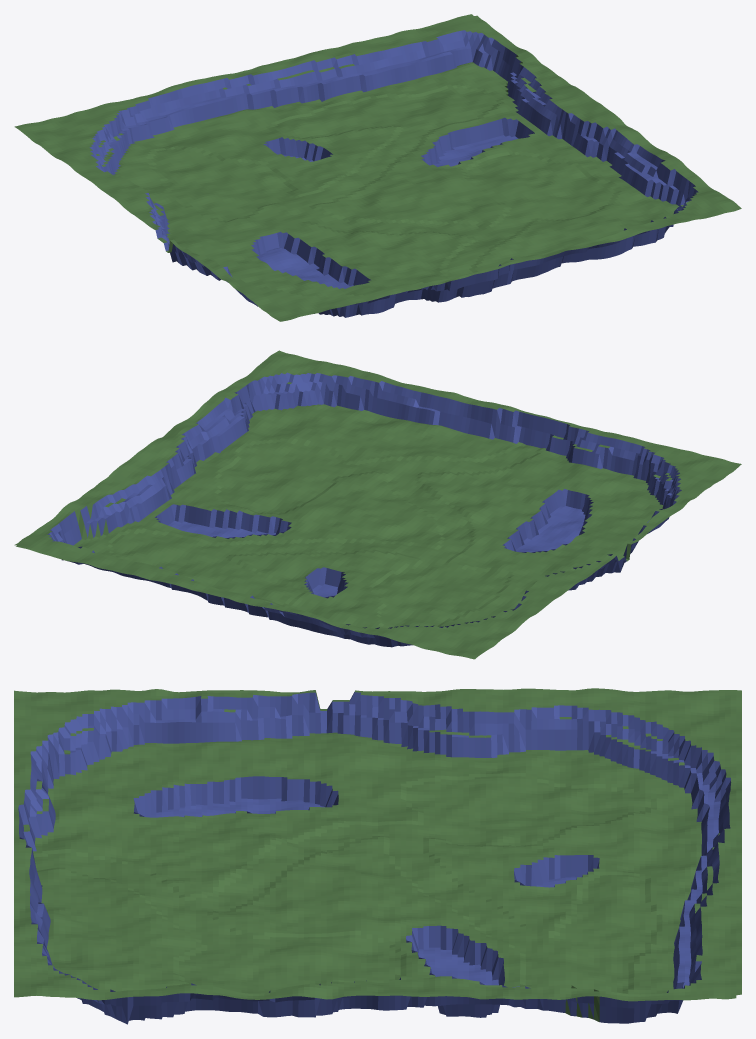
File: DemoWorld.fbx
3 views of the same model, one above another, from view 1: azimuth 30°, elevation 25°; view 2: azimuth 150°, elevation 25°; view 3: azimuth 270°, elevation 25° (orthographic). The views are drawn at different scales.
Visible parts, largest first — view 1: Plane; view 2: Plane; view 3: Plane.
Part boxes in pixels (x1=…): Plane: x1=14, y1=14, x2=741, y2=321; Plane: x1=14, y1=350, x2=741, y2=659; Plane: x1=14, y1=688, x2=741, y2=1024.
Size of the model in its own units: 7998 by 772 by 7998.
